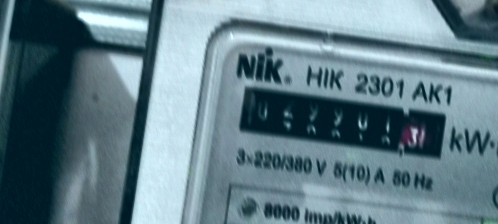0: (354, 106, 373, 133), (254, 98, 272, 121)
1: (381, 109, 397, 135)
2: (280, 96, 298, 120)
3: (405, 125, 423, 150)
9: (331, 104, 346, 129), (306, 100, 321, 122)
screen: (230, 78, 457, 170)
